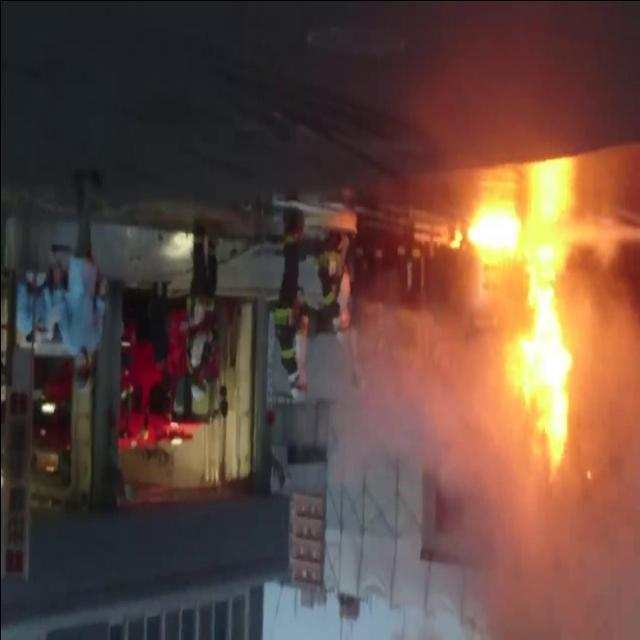Fire: (508, 276, 574, 472), (451, 209, 521, 266)
